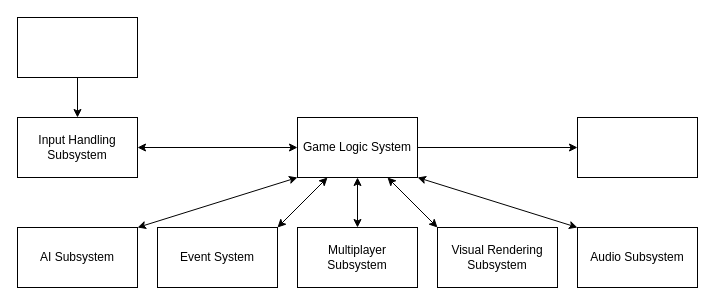
This 715x305 diagram has some shape labels left out. Each missing label, with the centre of its shape:
Game Visuals & Sounds: point 637,147
Player Commands: point 77,47
